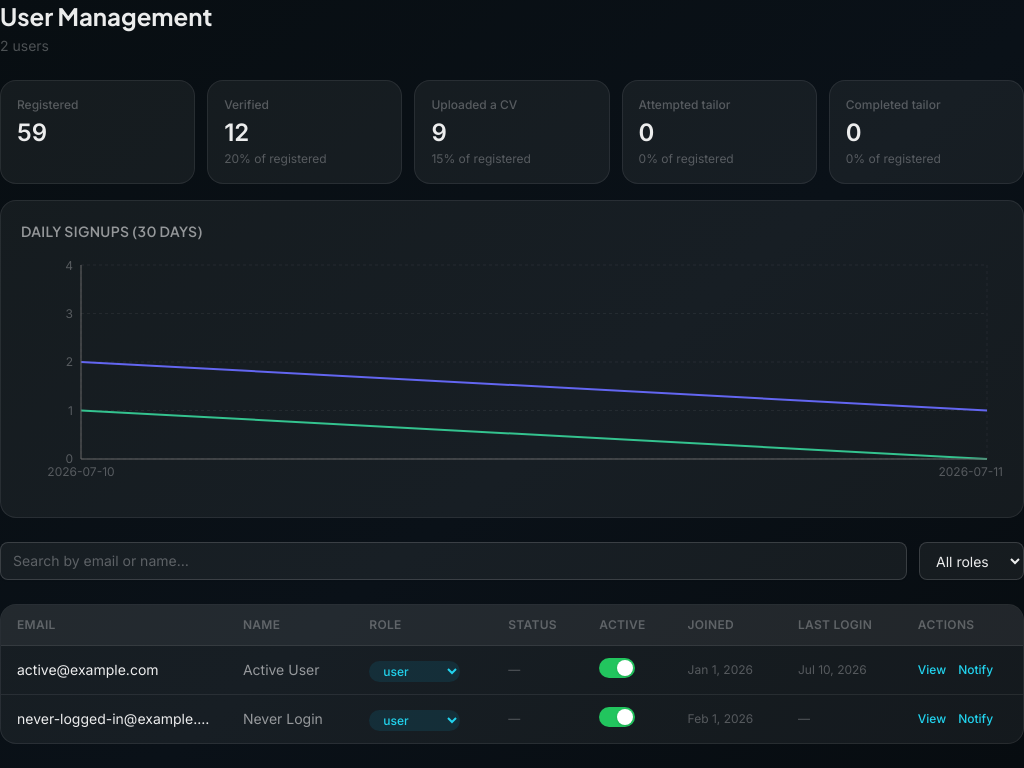
Test: AdminUsers › drawer shows AI spend and the activity timeline
The image size is (1024, 768).
Click the button "View" in the row of "active@example.com": (932, 670) [918,654,946,686]
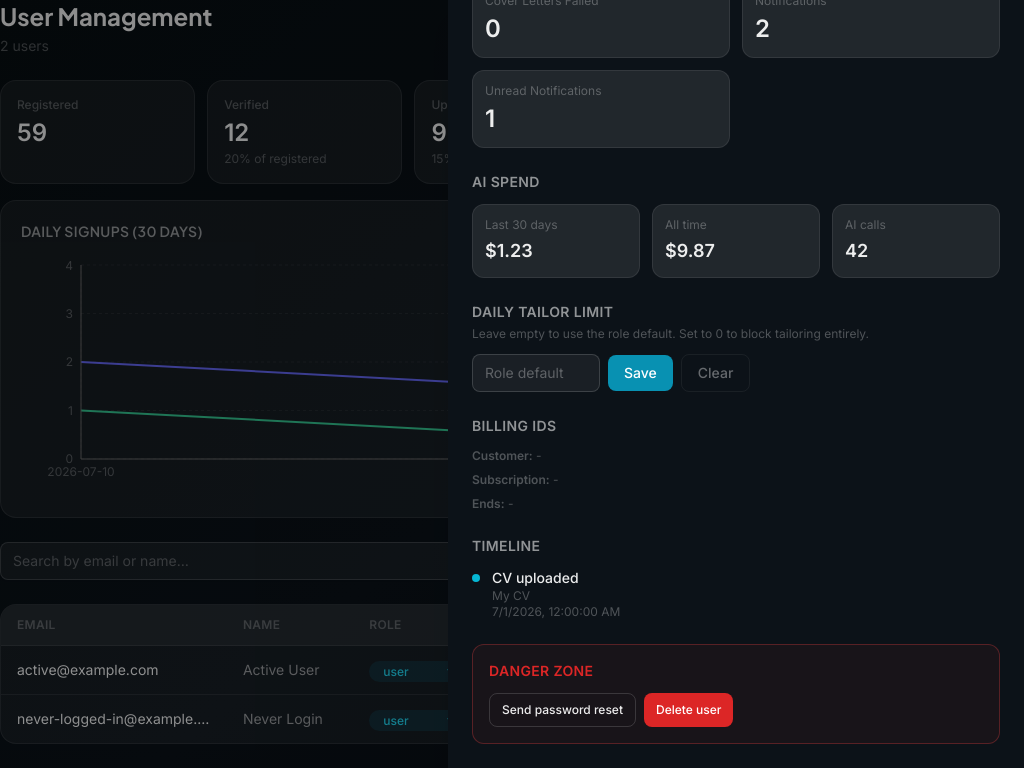
Now the heading "AI Spend" is shown, box [472,173,540,190]
Now the text "$1.23" is shown, box [485,240,533,261]
Now the text "$9.87" is shown, box [665,240,715,261]
